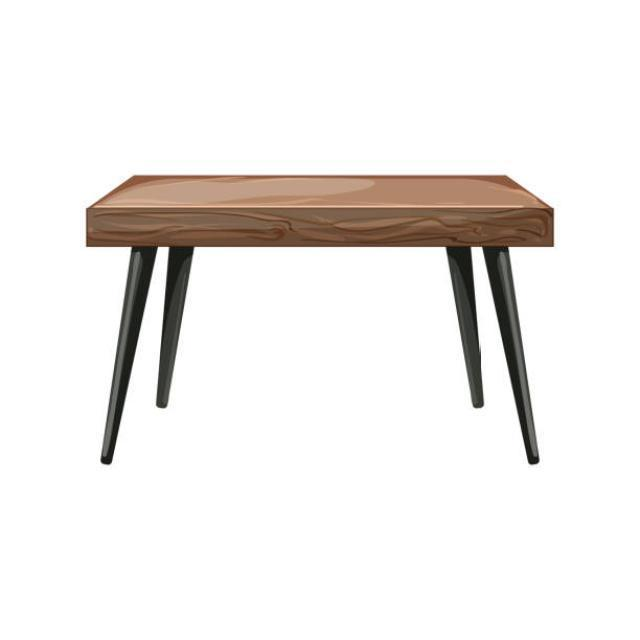table: (84, 172, 554, 466)
